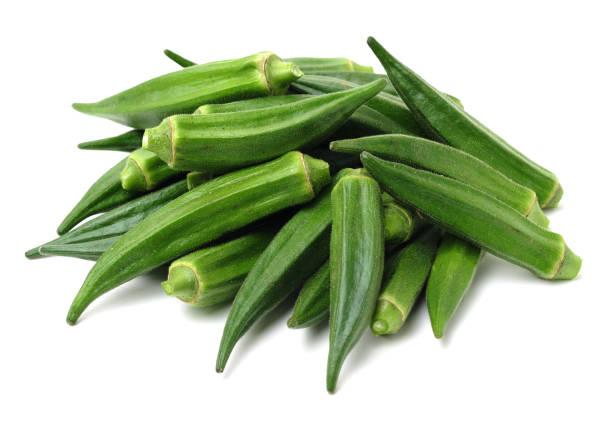okra: (25, 37, 582, 393), (365, 35, 564, 209)
